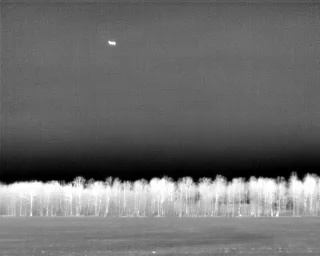DRONE: (104, 36, 120, 50)
